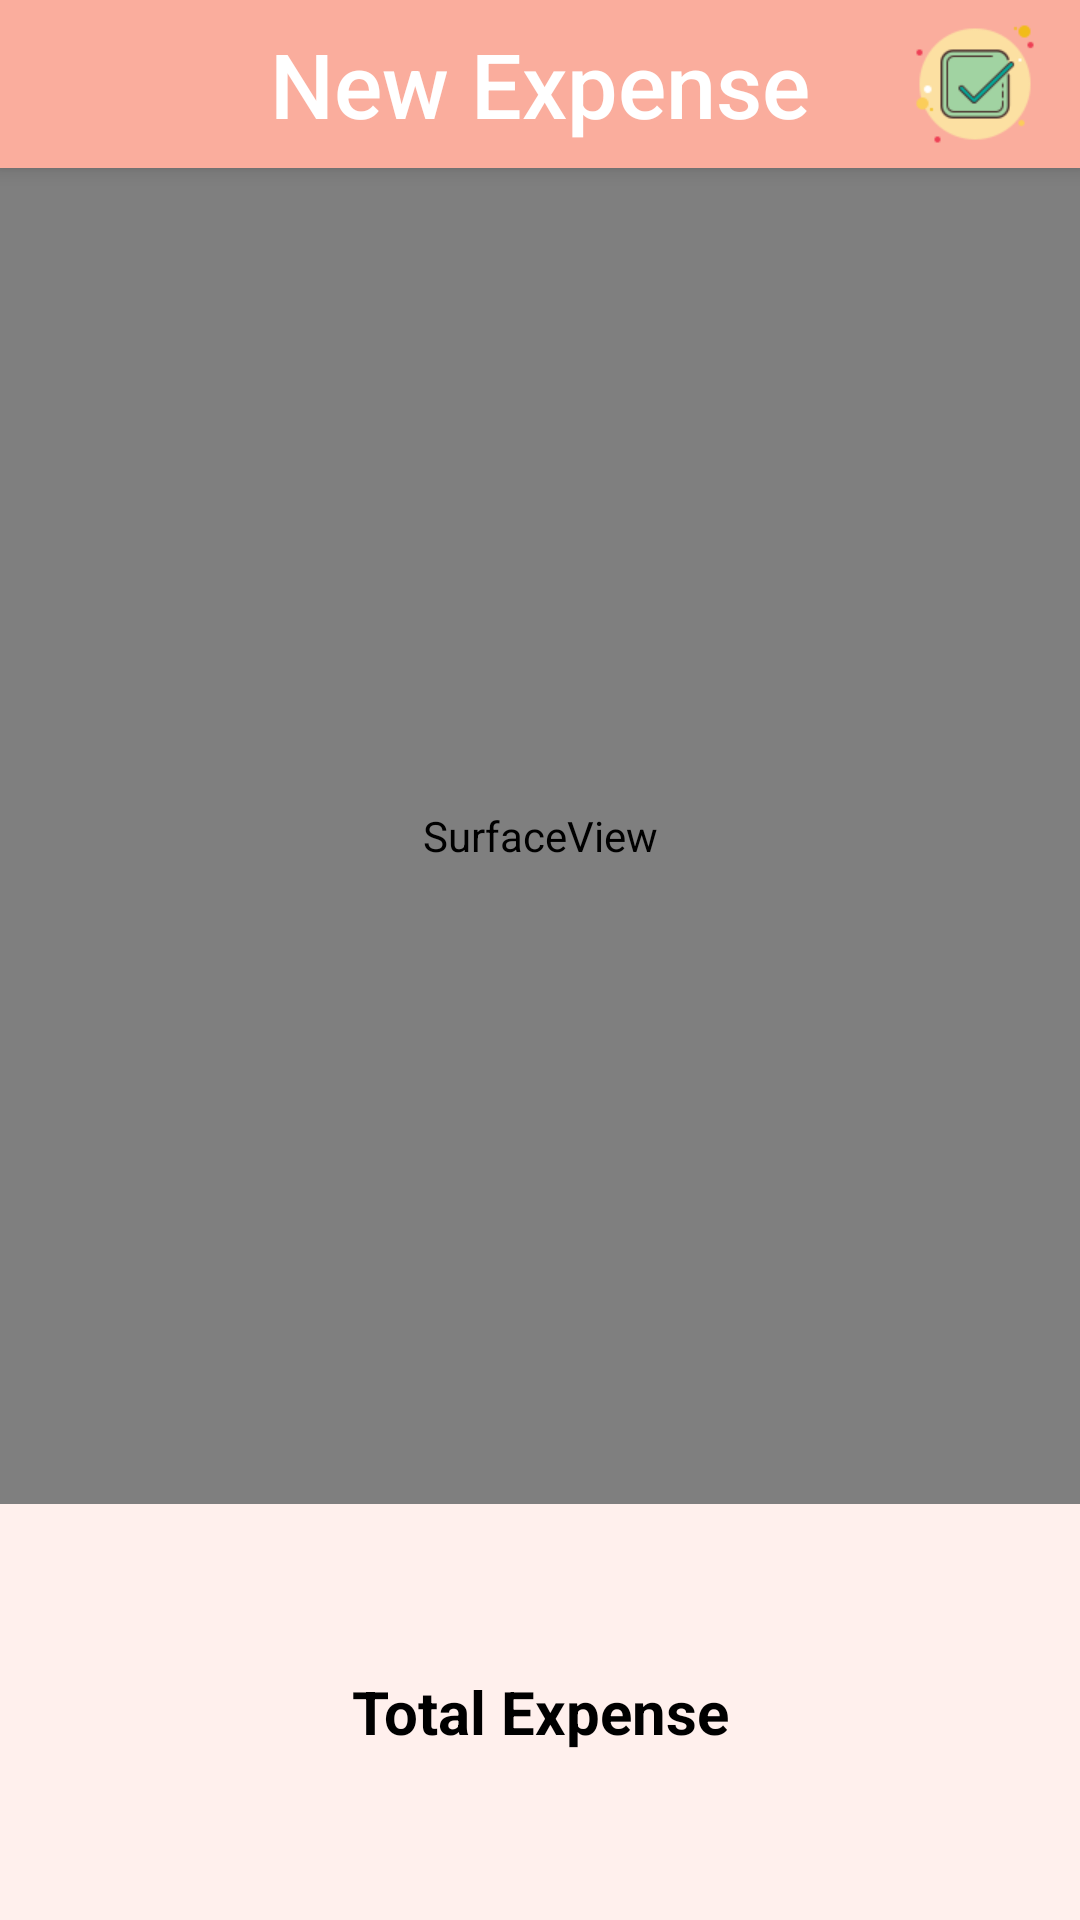

Icons on this 1080 x 1920 Android screen, each with the point to tap as point (x, y):
check: point (975, 84)
